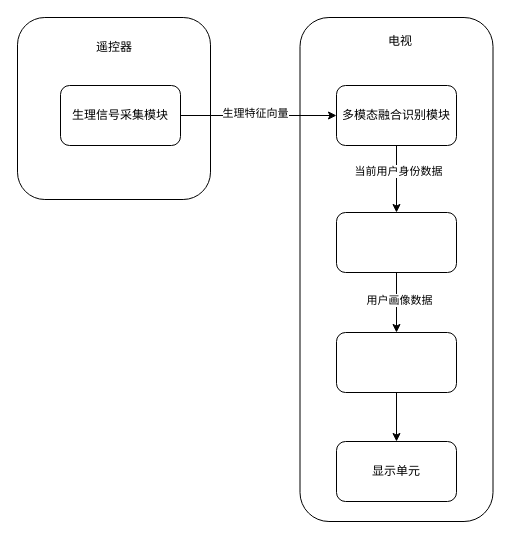
This 511x539 diagram has some shape labels left out. The shapes that lost their labels are listed below. From the top down, each one's centre as x and y in pixels, then its label:
At point 396,242: "用户画像建模模块".
At point 396,362: "应用预测推荐模块".
